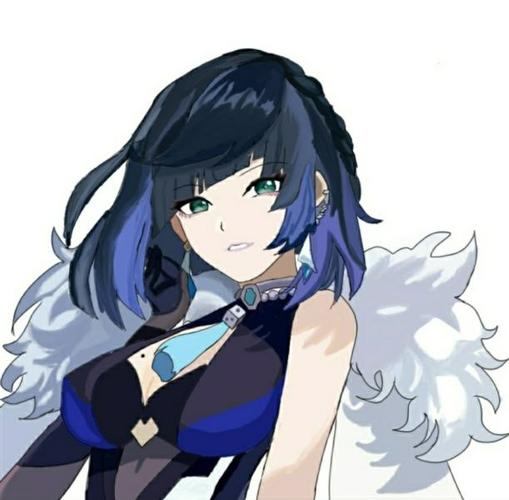夜兰: (1, 45, 362, 500)
